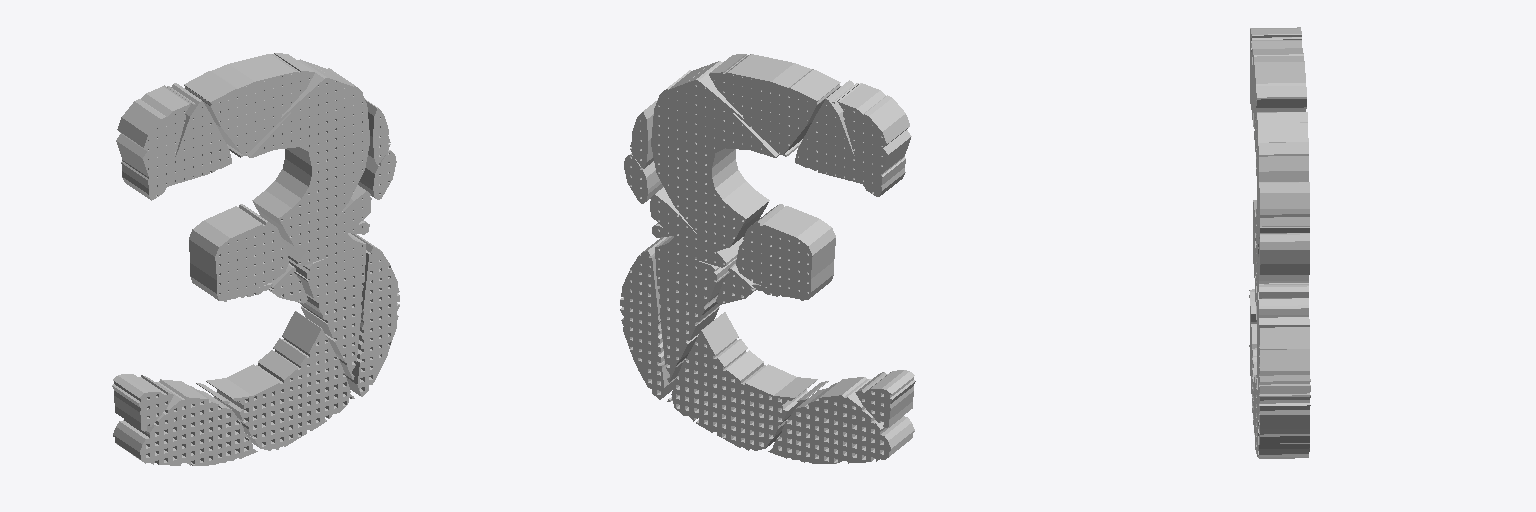
File: 3_naranja.obj
3 views of the same model, side by side, from view 1: azimuth 30°, elevation 25°; view 2: azimuth 150°, elevation 25°; view 3: azimuth 270°, elevation 25° (orthographic).
Visible parts, largest first — view 1: Mesh1 G_3_1 Model, Mesh8 G_3_1 Model, Mesh2 G_3_1 Model, Mesh10 G_3_1 Model, Mesh5 G_3_1 Model, Mesh7 G_3_1 Model, Mesh9 G_3_1 Model, Mesh4 G_3_1 Model, Mesh6 G_3_1 Model; view 2: Mesh1 G_3_1 Model, Mesh8 G_3_1 Model, Mesh2 G_3_1 Model, Mesh10 G_3_1 Model, Mesh5 G_3_1 Model, Mesh7 G_3_1 Model, Mesh9 G_3_1 Model, Mesh4 G_3_1 Model, Mesh6 G_3_1 Model; view 3: Mesh1 G_3_1 Model, Mesh7 G_3_1 Model, Mesh4 G_3_1 Model, Mesh2 G_3_1 Model.
Part boxes in pixels (x1,y1,x2,y2): Mesh1 G_3_1 Model: (184,53,371,379); Mesh8 G_3_1 Model: (206,311,350,450); Mesh2 G_3_1 Model: (116,83,231,200); Mesh10 G_3_1 Model: (113,379,257,465); Mesh5 G_3_1 Model: (189,204,288,301); Mesh7 G_3_1 Model: (343,233,399,396); Mesh9 G_3_1 Model: (112,374,173,431); Mesh4 G_3_1 Model: (358,99,396,199); Mesh6 G_3_1 Model: (268,263,307,303); Mesh1 G_3_1 Model: (650,54,840,382); Mesh8 G_3_1 Model: (671,312,817,450); Mesh2 G_3_1 Model: (795,80,911,196); Mesh10 G_3_1 Model: (768,377,914,463); Mesh5 G_3_1 Model: (736,204,835,300); Mesh7 G_3_1 Model: (620,237,678,399); Mesh9 G_3_1 Model: (855,370,915,427); Mesh4 G_3_1 Model: (624,100,663,203); Mesh6 G_3_1 Model: (716,264,756,304); Mesh1 G_3_1 Model: (1252,48,1308,435); Mesh7 G_3_1 Model: (1259,317,1310,458); Mesh4 G_3_1 Model: (1259,182,1309,274); Mesh2 G_3_1 Model: (1250,27,1301,126).
Bounding box in the file's own units: 61.68 × 82.01 × 12.15.